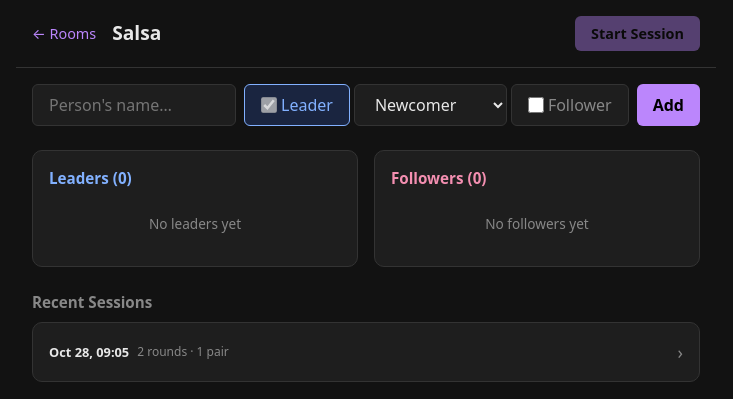
it: Room page › session history › shows session with multiple rounds
Click the link "Oct 28, 09:05 2 rounds · 1 pair ›".
click(89, 352)  # box left=32, top=322, right=700, bottom=382
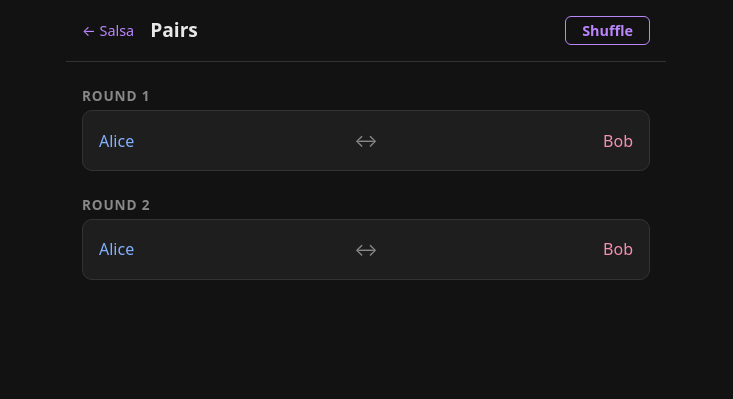
Check: the heading "Round 1" is shown, box left=82, top=86, right=150, bottom=105
Check: the heading "Round 2" is shown, box left=82, top=195, right=150, bottom=214
